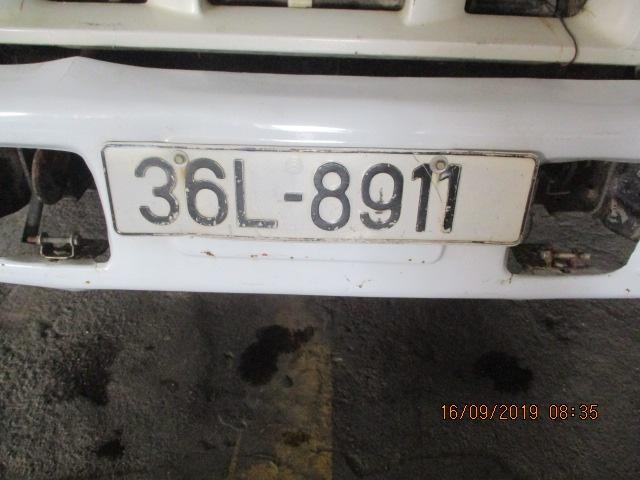number_plate: (126, 147, 480, 240)
